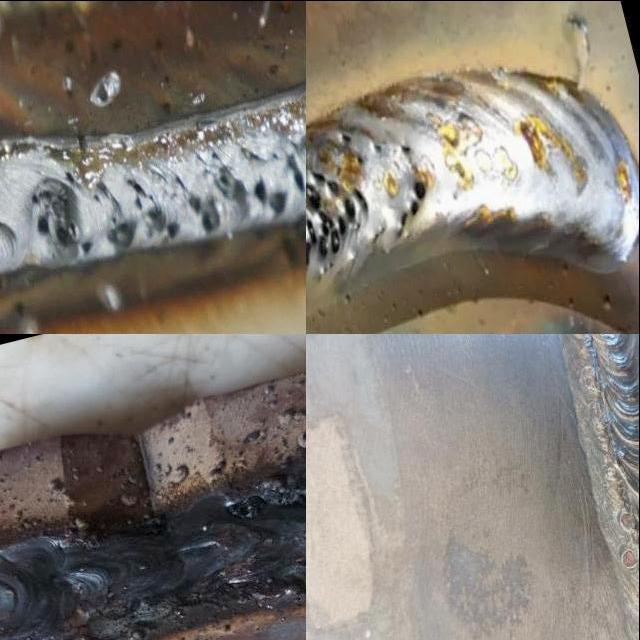defect: (181, 148, 292, 234), (307, 162, 374, 292), (24, 166, 98, 258), (104, 174, 183, 250), (388, 172, 433, 244), (283, 149, 307, 195), (265, 481, 307, 507), (226, 497, 269, 521), (619, 547, 639, 577), (589, 402, 610, 430), (620, 507, 638, 534), (582, 370, 603, 393), (399, 137, 414, 163), (340, 131, 354, 146), (373, 139, 384, 156), (356, 152, 365, 167)
